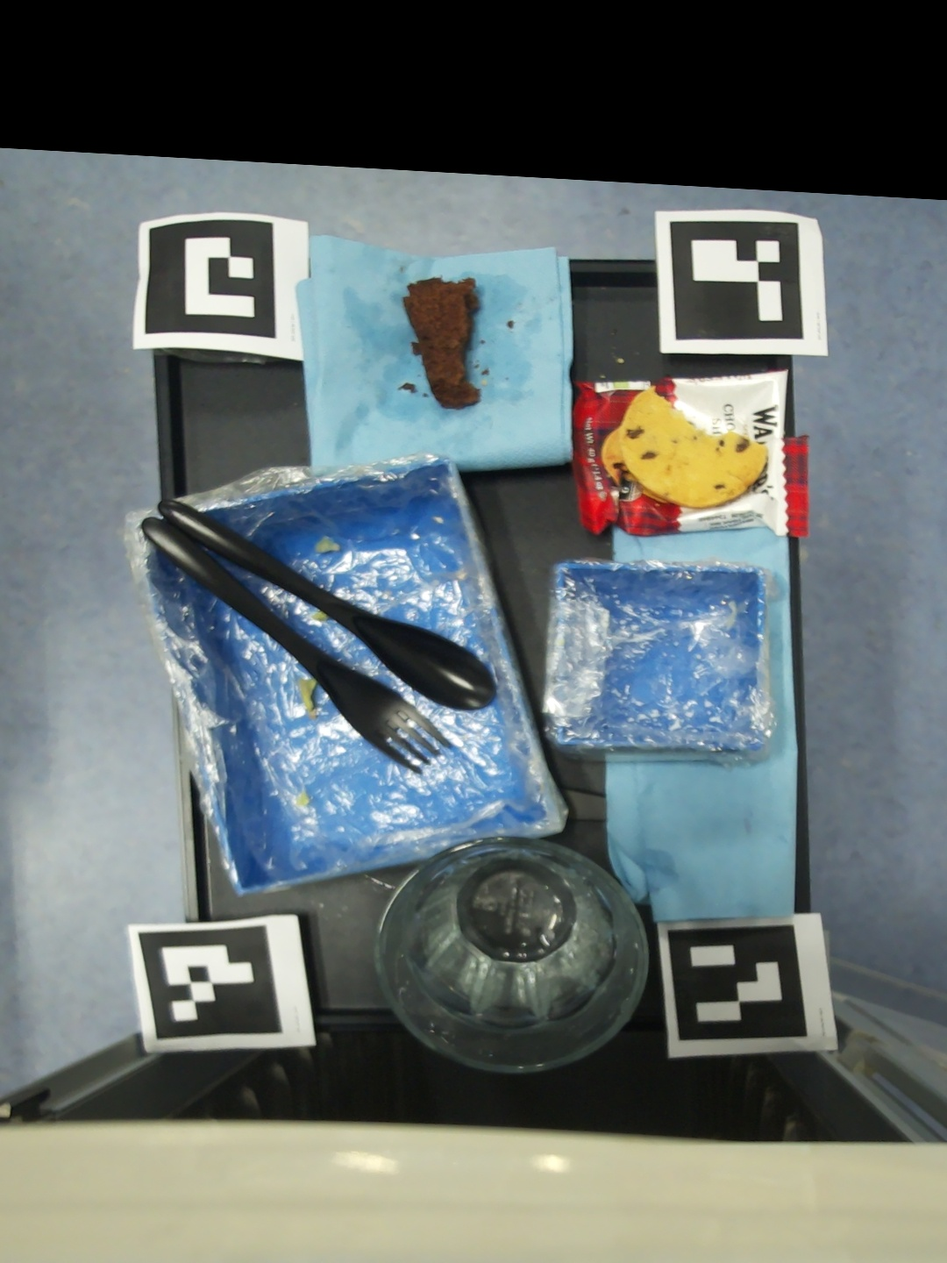brownie: (403, 277, 480, 410), (398, 383, 415, 392), (507, 320, 514, 329), (481, 369, 489, 375)
cookie: (570, 369, 809, 537)
water_bottle: (371, 837, 649, 1073)
wrap_half_1: (299, 678, 317, 716), (314, 536, 340, 553), (313, 611, 330, 621), (296, 793, 308, 804)
